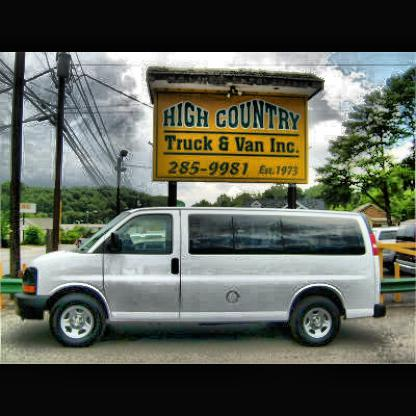Chevrolet Express Van 2007: (18, 206, 393, 351)
